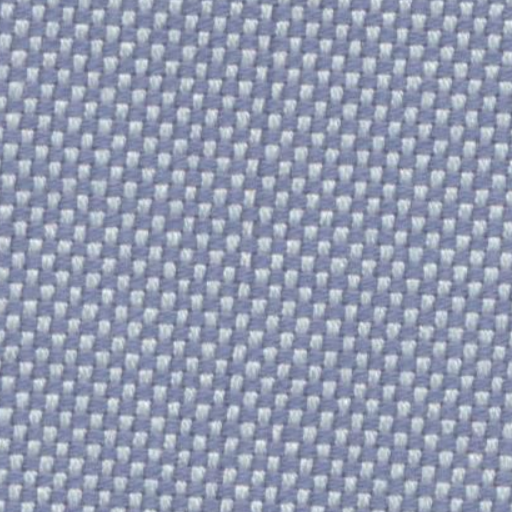TuoSha: (208, 15, 288, 498)
